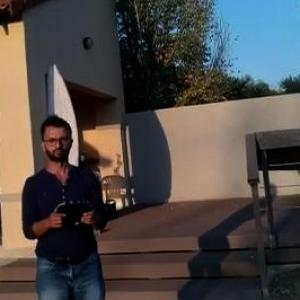follow: (17, 106, 116, 299)
